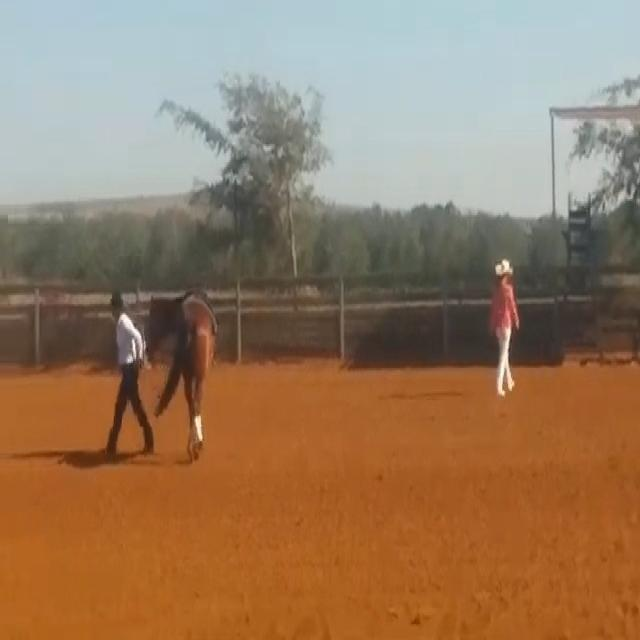horse: (142, 283, 220, 462)
